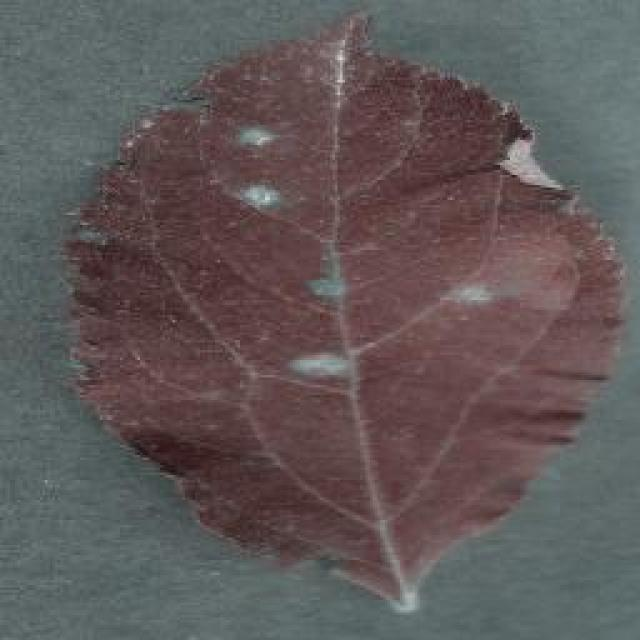apple cedar apple rust: (60, 8, 628, 612)
